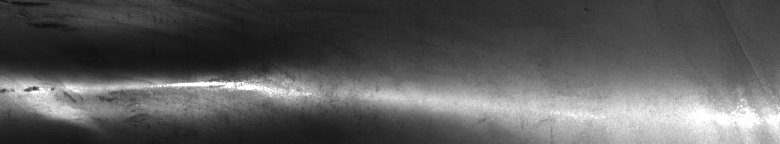ke: (4, 4, 380, 136)
